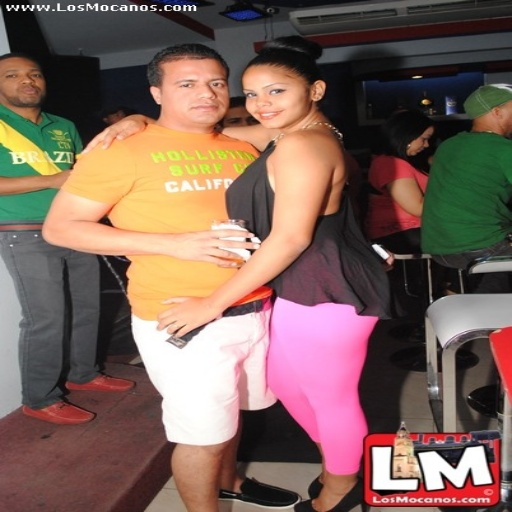hand: (171, 226, 259, 268), (151, 290, 221, 338), (78, 112, 146, 153), (47, 167, 70, 192)
